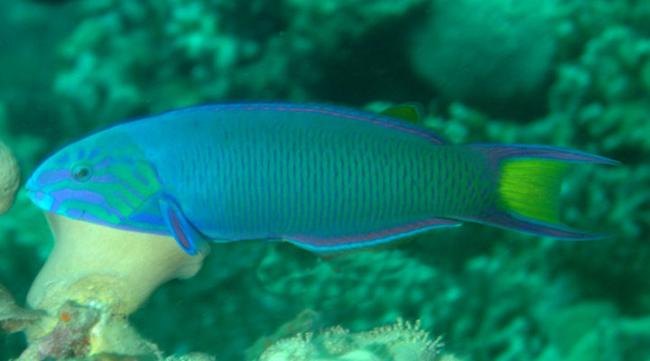fish: (25, 100, 622, 257)
